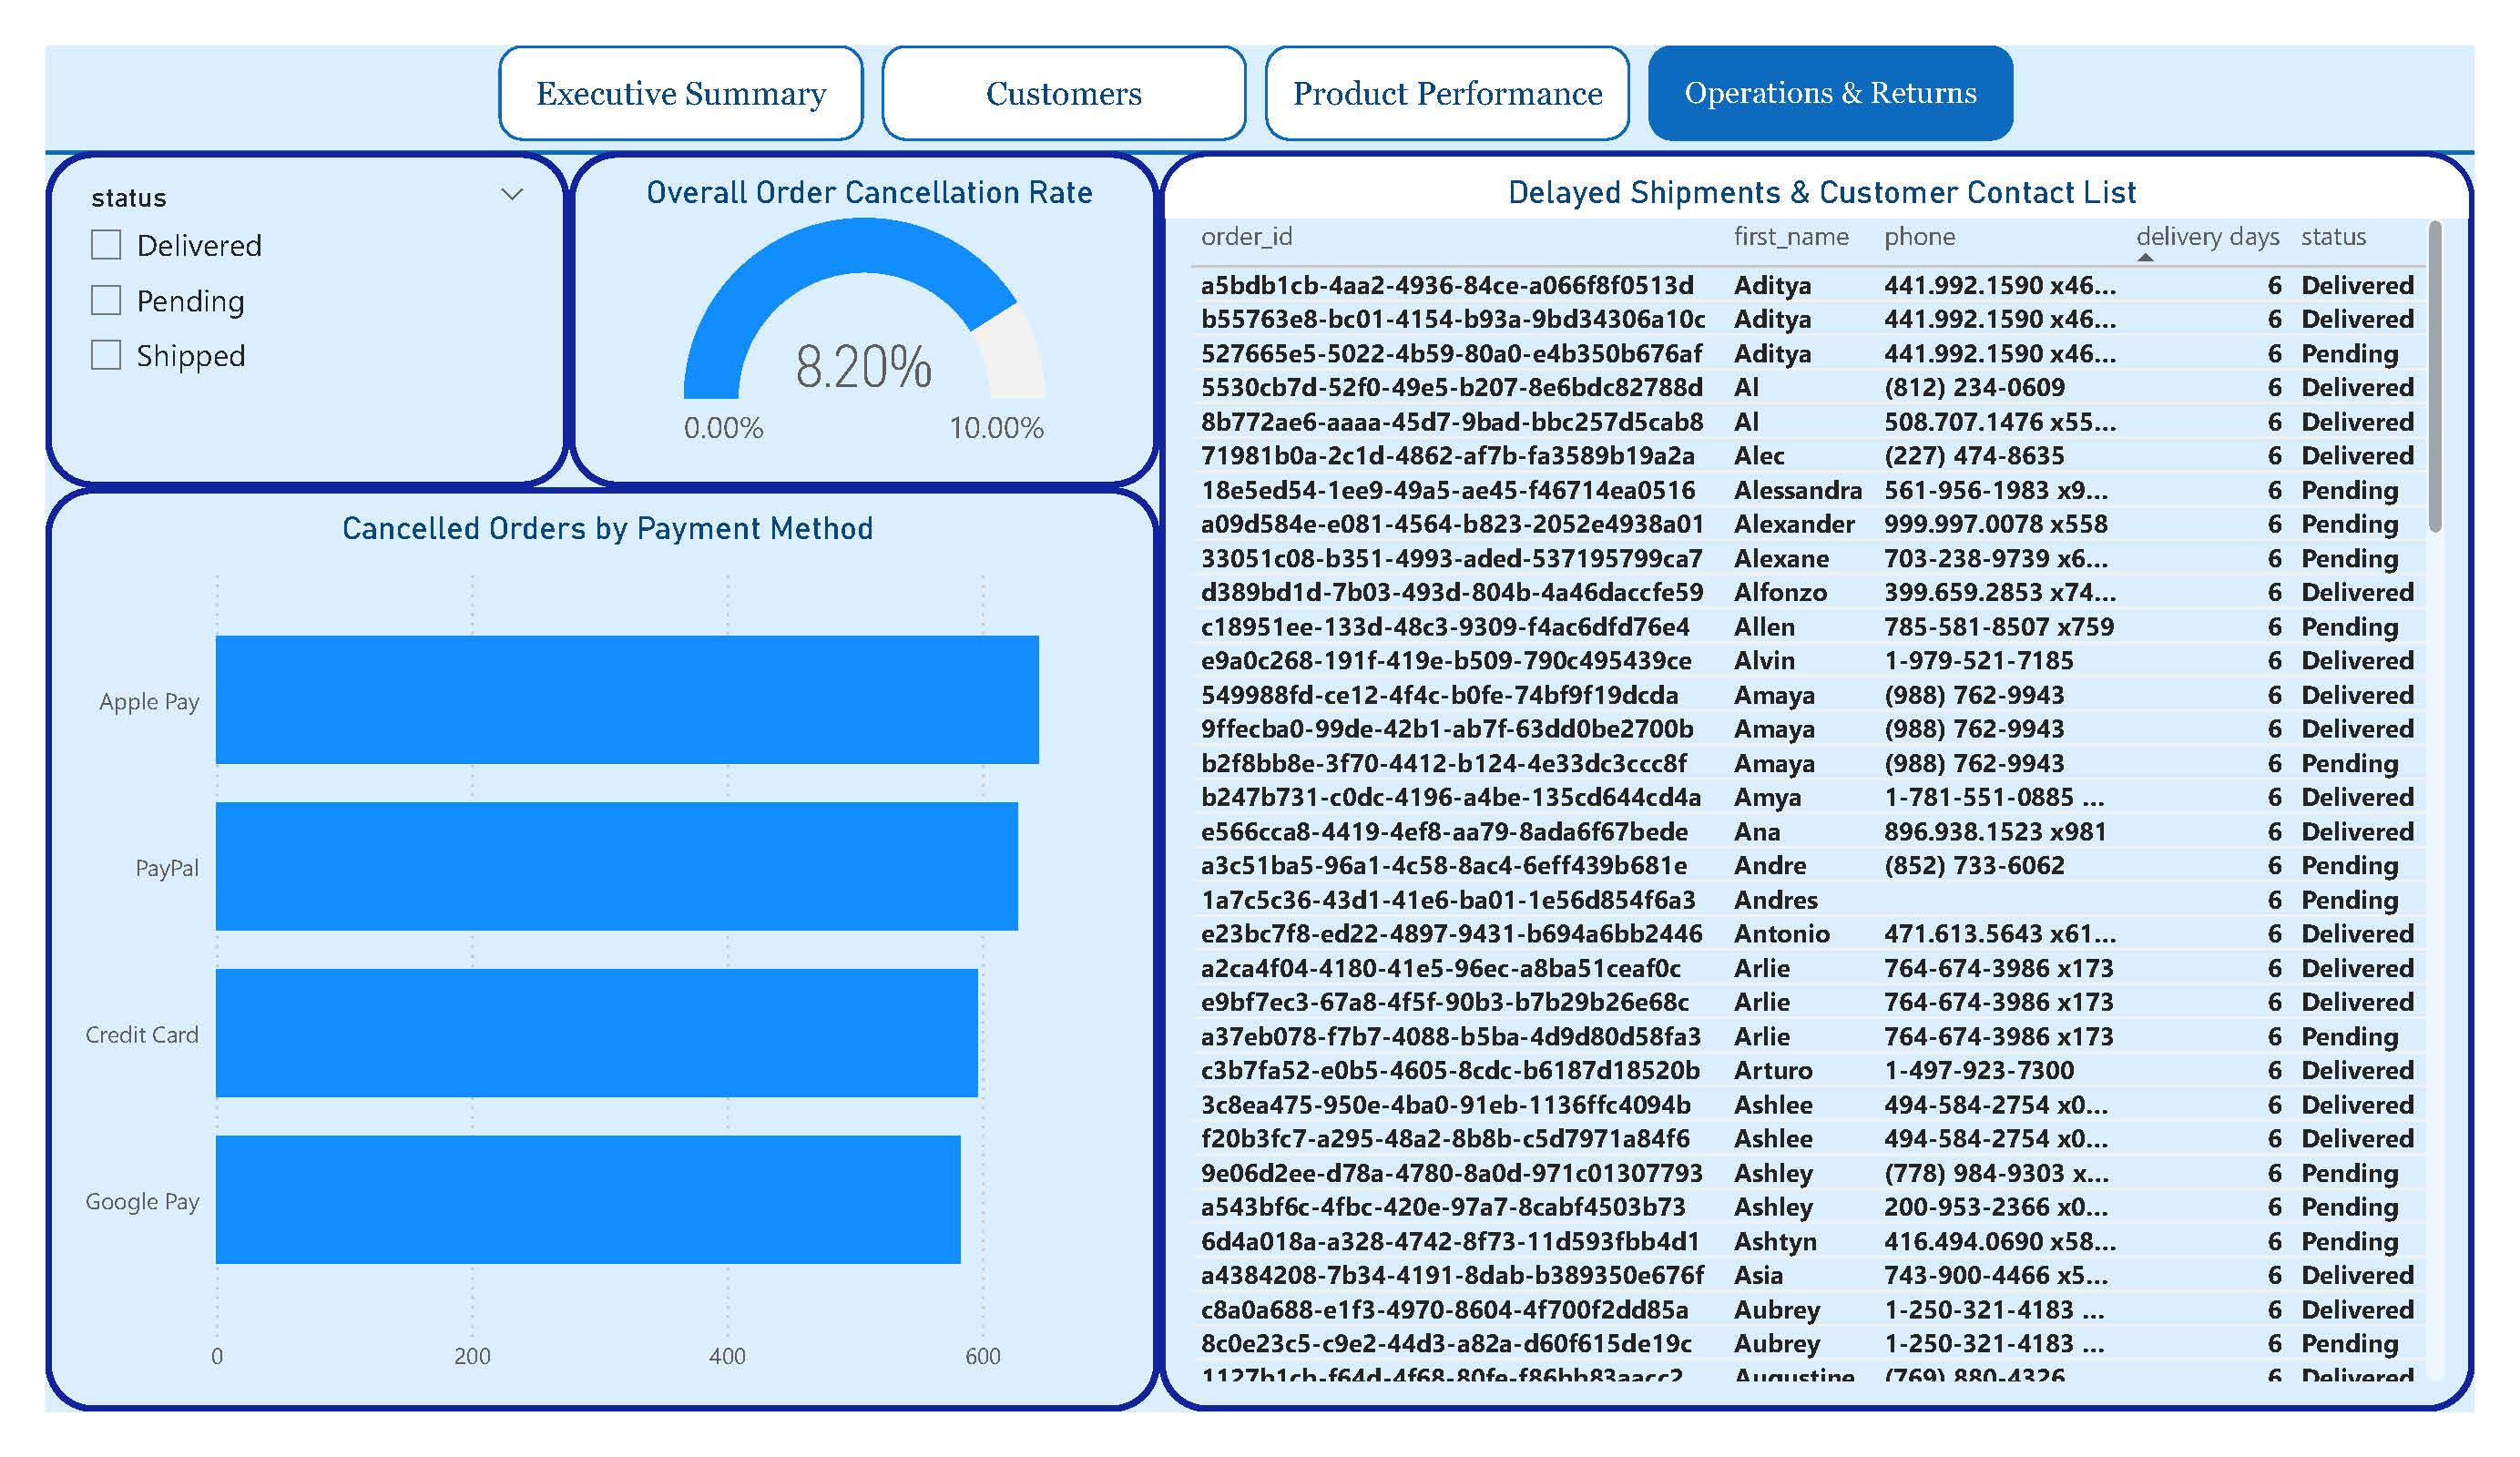

Layout of this report page (visuals, bound fields, positions):
{"tool":"powerbi","page":{"name":"Operations & Returns","canvas":[1280,720],"ordinal":3},"visuals":[{"type":"shape","box":[0,0,1280,112.8],"z":0},{"type":"pageNavigator","box":[239.3,0,800.5,49.6],"z":1000},{"type":"gauge","title":"Overall Order Cancellation Rate","fields":{"Y":["Measure.Cancelled Rate"]},"box":[275.8,56.3,310.7,176.7],"z":4001},{"type":"clusteredBarChart","title":"Cancelled Orders by Payment Method","fields":{"Y":["Measure.Cancelled Orders Count"],"Category":["orders.payment_method"]},"box":[0,233,586.5,487.5],"z":4002},{"type":"slicer","title":"Overall Order Cancellation Rate","fields":{"Values":["orders.status"]},"box":[0,56.3,275.8,176.7],"z":4005},{"type":"tableEx","title":"Delayed Shipments & Customer Contact List","fields":{"Values":["order_items.order_id","customers.first_name","customers.phone","orders.delivery time","orders.status"]},"box":[586.5,56.3,693.5,664.2],"z":4006}]}

Visuals, with their boxes on the page's 1280x720 design canvas (x1, y1, x2, y2). These are canvas units, not pixel positions in the 2520x1457 screenshot, which may show the page scaled, cropped or inside an application window:
shape: BBox(0, 0, 1280, 113)
pageNavigator: BBox(239, 0, 1040, 50)
"Overall Order Cancellation Rate" gauge: BBox(276, 56, 586, 233)
"Cancelled Orders by Payment Method" clusteredBarChart: BBox(0, 233, 586, 720)
"Overall Order Cancellation Rate" slicer: BBox(0, 56, 276, 233)
"Delayed Shipments & Customer Contact List" tableEx: BBox(586, 56, 1280, 720)
